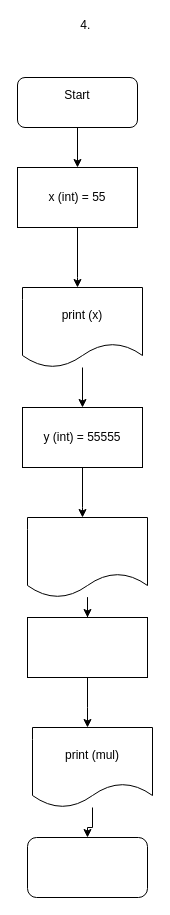
This 170x915 diagram has some shape labels left out. The shapes that lost their labels are listed below. From the top down, each one's centre as x and y in pixels, then its label:
At point 87,557: "print (y)".
At point 87,647: "mul (int) = x*y".
At point 87,867: "end".
